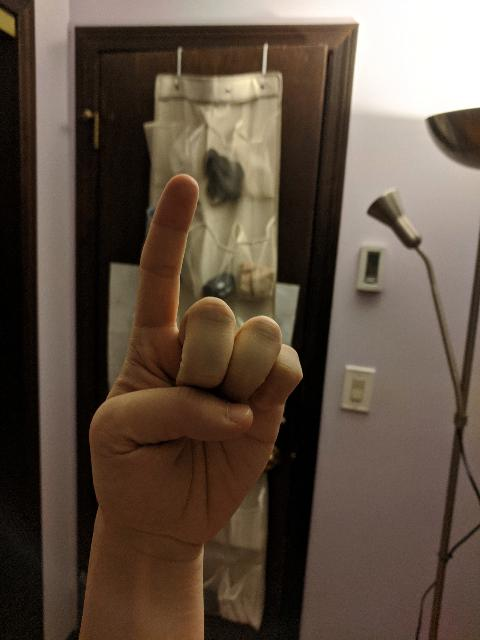D: (85, 170, 307, 552)
